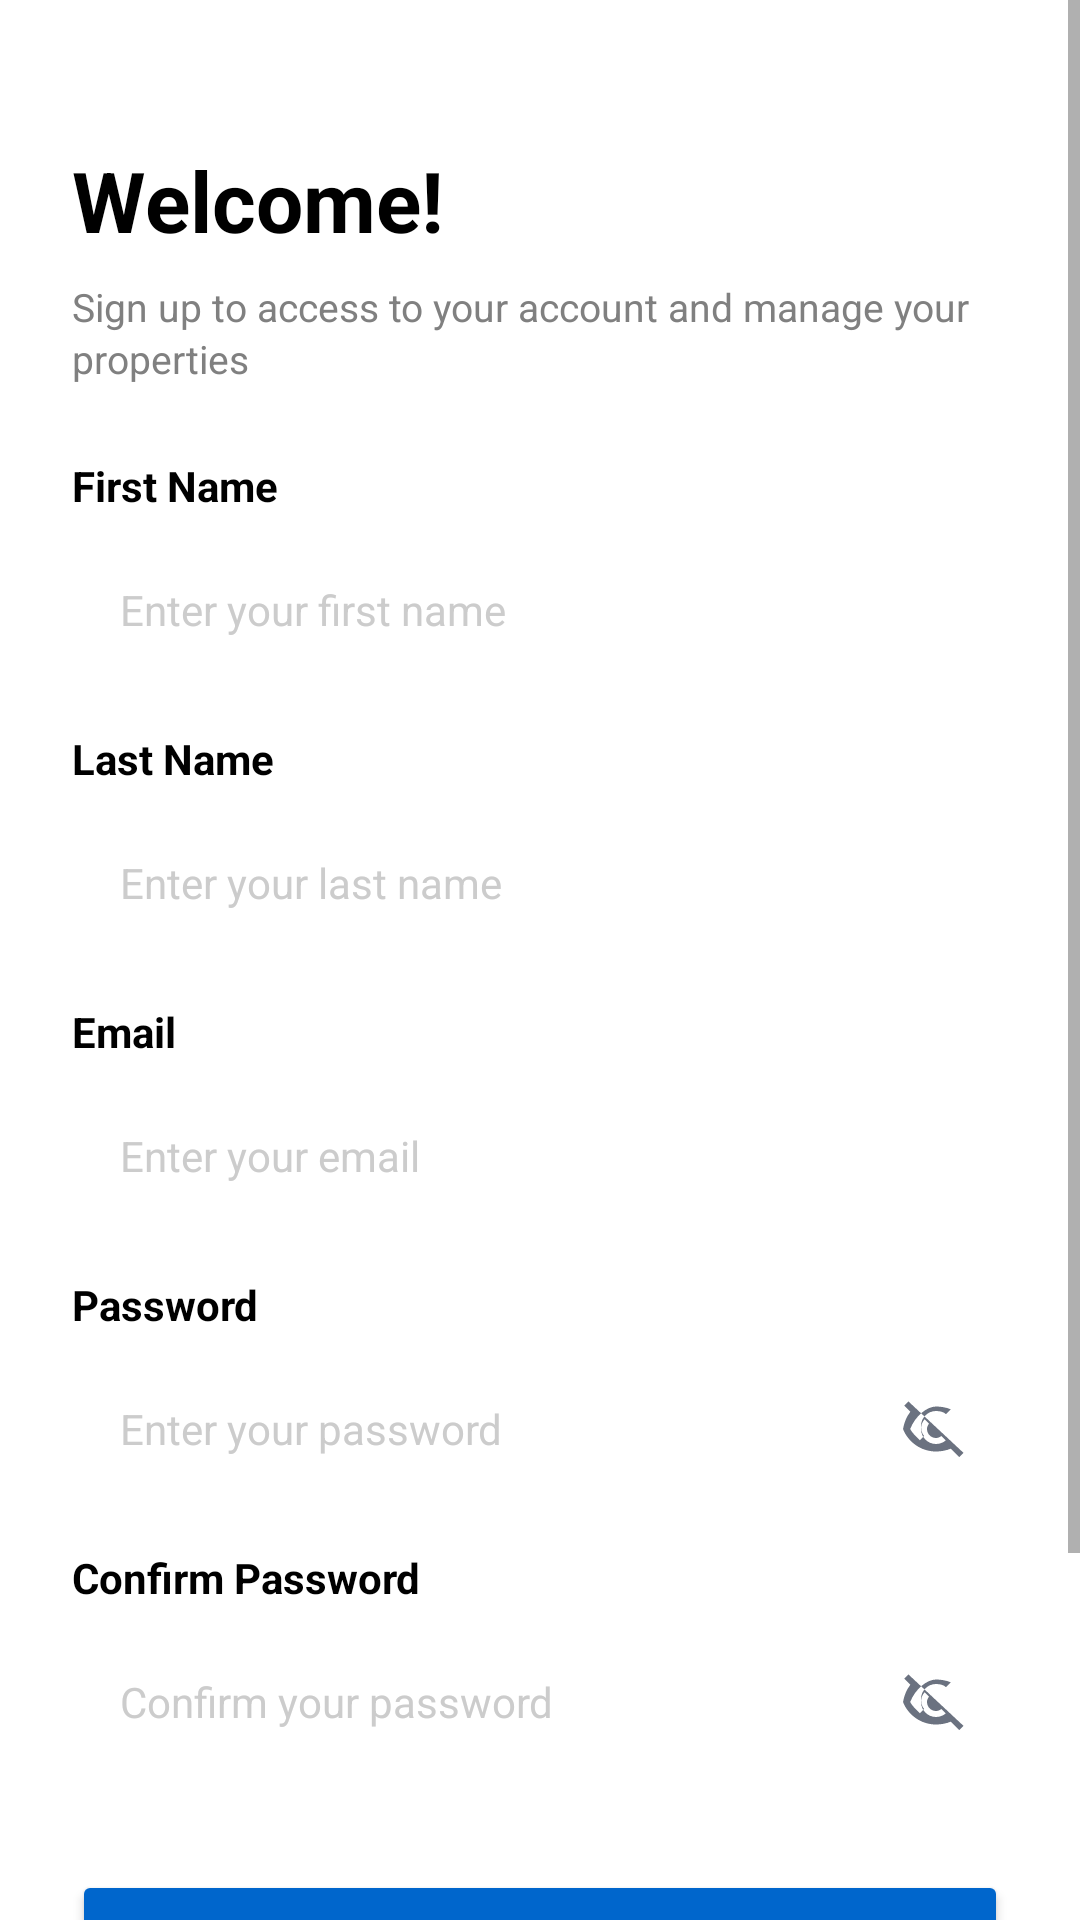

Screen size 1080px x 1920px. Icon name, then its center in pixels as [x,y]:
Show password: [933,1429], [933,1702]
